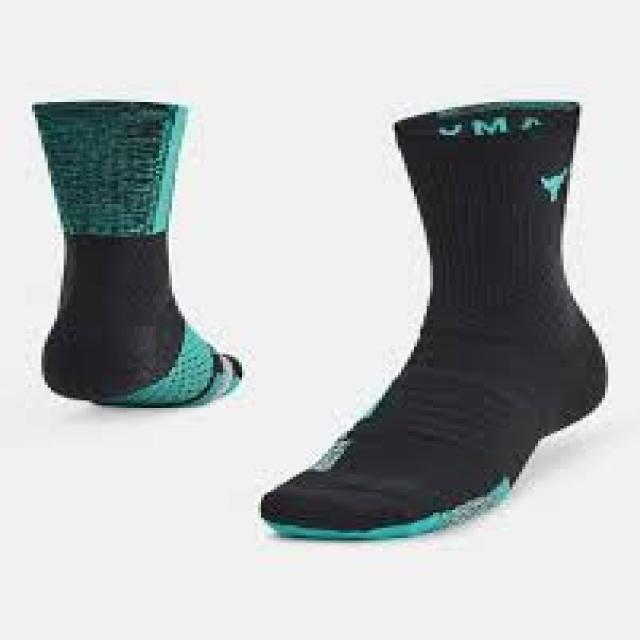sock: (258, 97, 608, 538), (29, 97, 242, 408)
